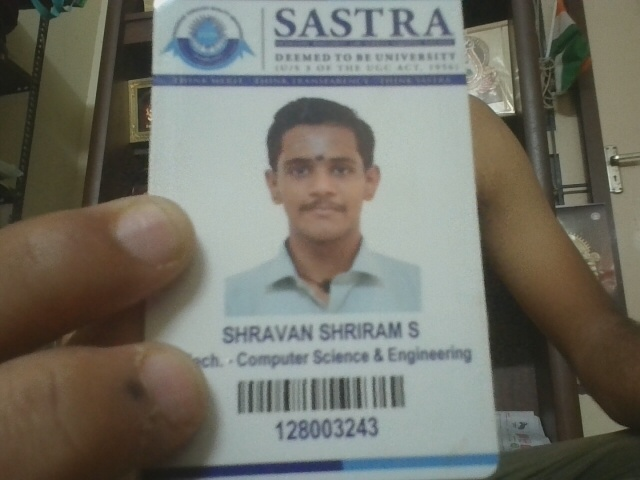fake: (265, 125, 377, 237)
